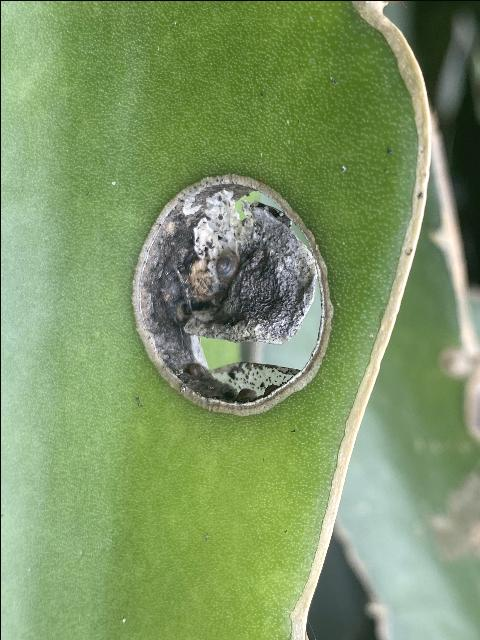stemcanker: (126, 167, 342, 420)
